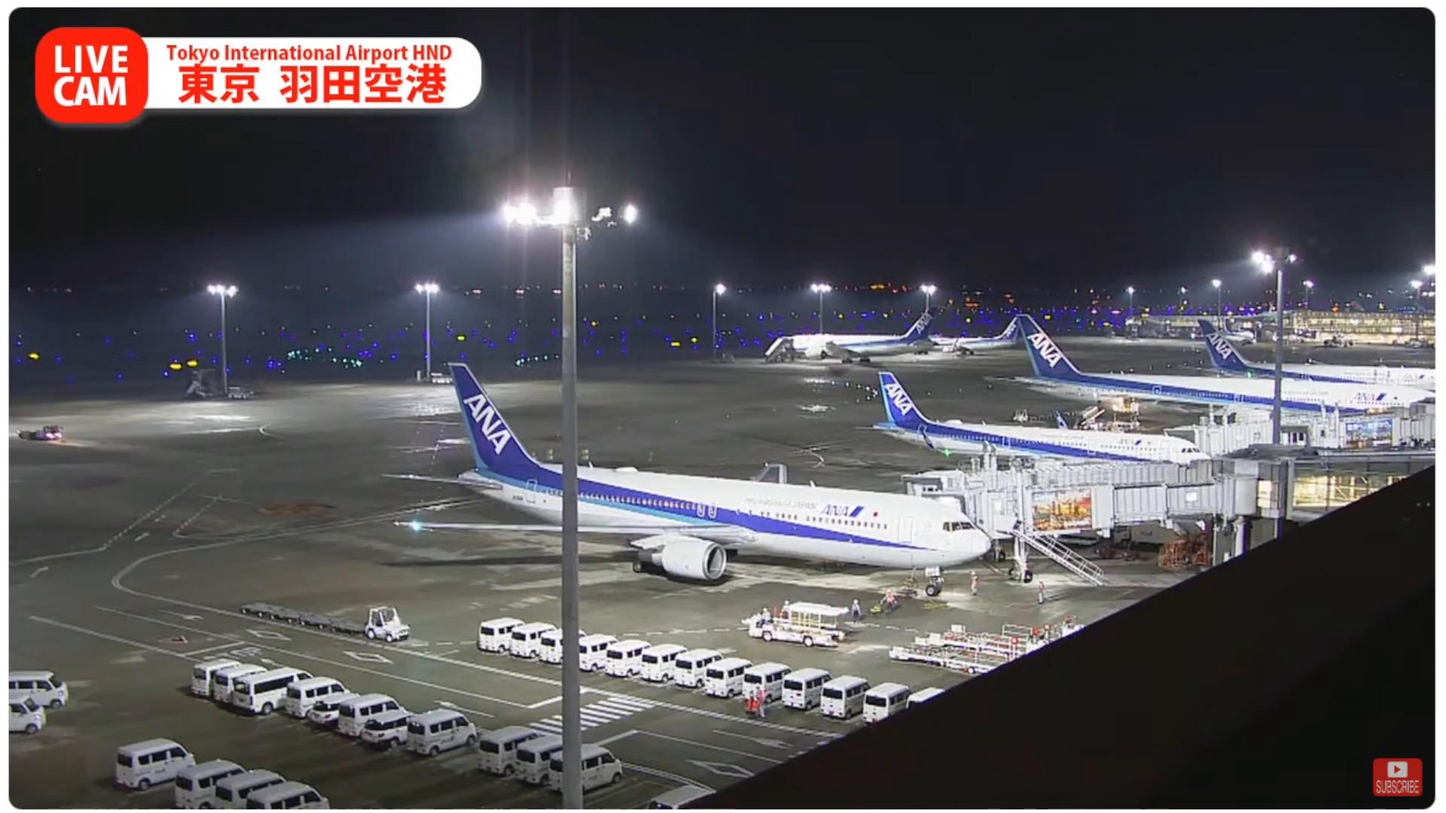Aerobridge: (927, 475, 1249, 541), (902, 461, 1219, 499)
Airplane: (384, 360, 990, 589)
Dolly: (242, 594, 368, 640)
JCPL: (890, 633, 1021, 674), (936, 623, 1082, 655)
Skyloader: (736, 595, 854, 649)
Tractor: (362, 599, 414, 650)
Window: (1293, 468, 1419, 517)
